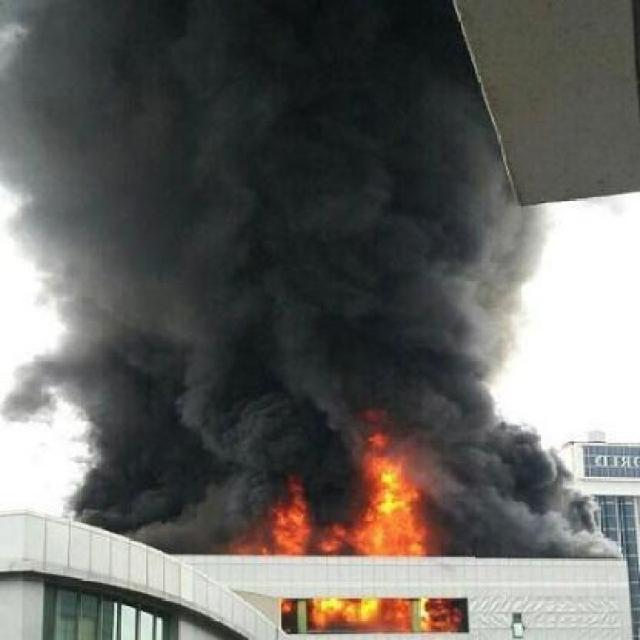Fire: (238, 389, 478, 640)
Smoke: (26, 27, 444, 388)
